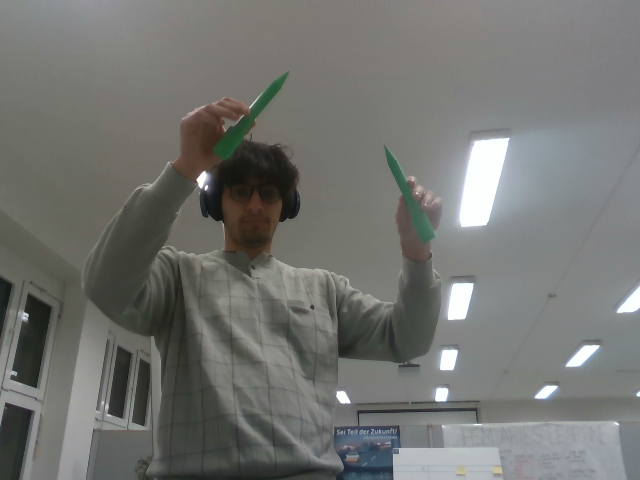Probe: (210, 64, 291, 163), (382, 139, 439, 243)
